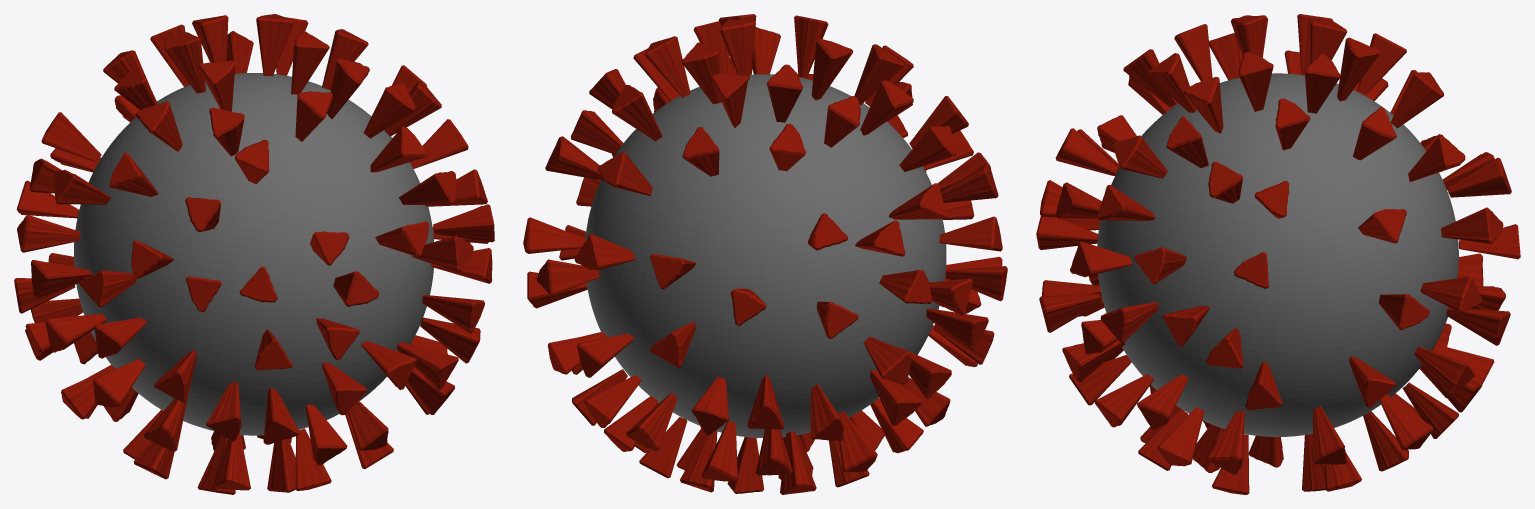
File: COVID.fbx
3 renders of one model, left to right at view 1: azimuth 30°, elevation 25°; view 2: azimuth 150°, elevation 25°; view 3: azimuth 270°, elevation 25°, orthographic.
Parts seen in each view (by area): view 1: Sphere, Cone.046, Cone.075, Cone.094, Cone.038, Cone.088, Cone.069, Cone.074, Cone.039, Cone.066, Cone.030, Cone.032 (+58 smaller); view 2: Sphere, Cone.073, Cone.051, Cone.080, Cone.074, Cone.100, Cone.068, Cone.081, Cone.013, Cone.018, Cone.012, Cone.035 (+55 smaller); view 3: Sphere, Cone.005, Cone.031, Cone.063, Cone.011, Cone.012, Cone.057, Cone.010, Cone.097, Cone.072, Cone.054, Cone.028 (+55 smaller).
Boxes of the visible parts, x1,y1,x2,y2 form: Sphere: (74,73,433,435); Cone.046: (17,215,80,252); Cone.075: (256,14,293,76); Cone.094: (433,204,494,242); Cone.038: (93,359,145,407); Cone.088: (363,83,415,138); Cone.069: (164,31,205,93); Cone.074: (291,31,329,94); Cone.039: (31,260,91,297); Cone.066: (41,112,101,162); Cone.030: (420,317,480,363); Cone.032: (397,342,458,389); Sphere: (585,74,946,437); Cone.073: (644,36,690,97); Cone.051: (899,125,955,171); Cone.080: (811,38,853,100); Cone.074: (719,19,755,80); Cone.100: (612,85,662,141); Cone.068: (523,217,585,253); Cone.081: (854,44,904,105); Cone.013: (626,392,677,451); Cone.018: (701,420,737,481); Cone.012: (537,259,599,296); Cone.035: (926,308,988,350); Sphere: (1097,73,1458,436); Cone.005: (1379,394,1432,449); Cone.031: (1157,407,1204,466); Cone.063: (1447,157,1511,197); Cone.011: (1390,72,1443,128); Cone.012: (1420,276,1482,313); Cone.057: (1039,293,1101,332); Cone.010: (1414,346,1474,395); Cone.097: (1440,207,1503,243); Cone.072: (1337,37,1379,101); Cone.054: (1036,216,1098,249); Cone.028: (1095,374,1153,427).
Bounding box in the file's own units: 263 × 262 × 264.
